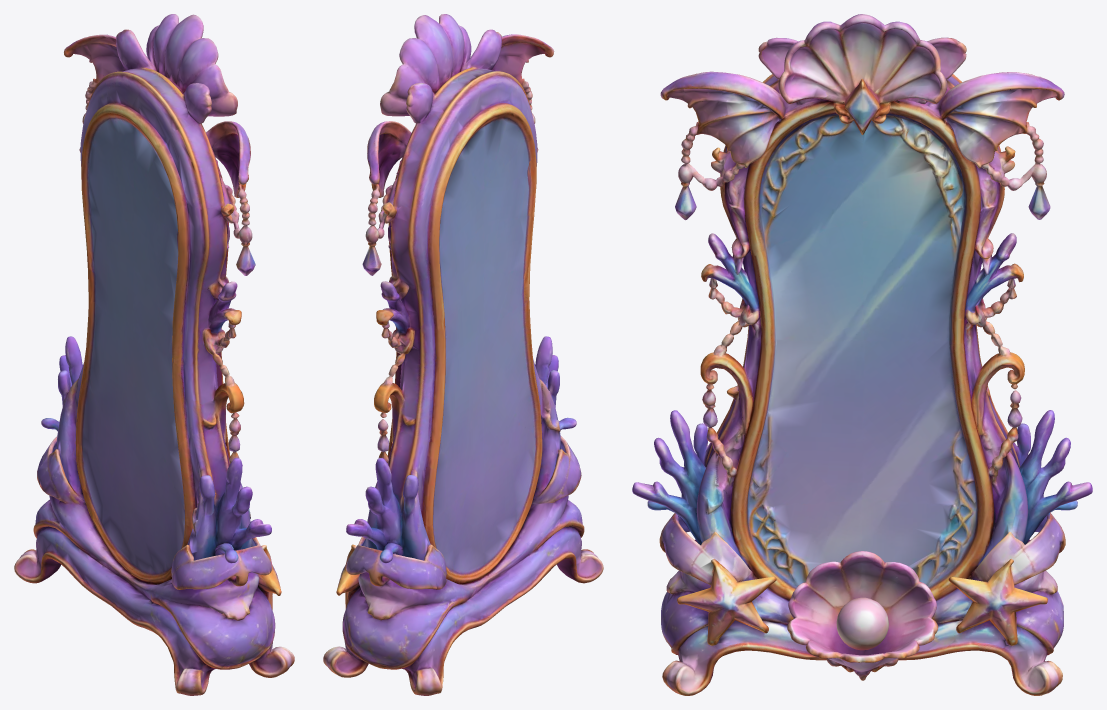
Rendered from pearl-wardrobe.glb.
The picture shows the model from 3 angles, left to right: view 1: azimuth 30°, elevation 25°; view 2: azimuth 150°, elevation 25°; view 3: azimuth 270°, elevation 25°; orthographic projection. The views are drawn at different scales.
Visible parts, largest first — view 1: tripo_node_d408c6a7-980b-419c-892c-fe75a237ff4e; view 2: tripo_node_d408c6a7-980b-419c-892c-fe75a237ff4e; view 3: tripo_node_d408c6a7-980b-419c-892c-fe75a237ff4e.
Part boxes in pixels (x1,y1,x2,y2): tripo_node_d408c6a7-980b-419c-892c-fe75a237ff4e: [14, 14, 294, 695]; tripo_node_d408c6a7-980b-419c-892c-fe75a237ff4e: [323, 14, 603, 695]; tripo_node_d408c6a7-980b-419c-892c-fe75a237ff4e: [632, 14, 1092, 695].
Size of the model in its own units: 0.2784 by 1 by 0.6157.
1 material, 1 textured.
